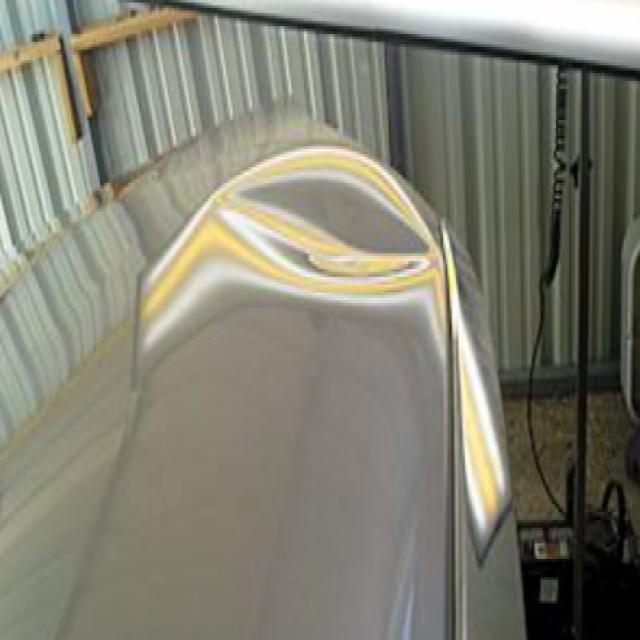dents: (224, 162, 437, 309)
